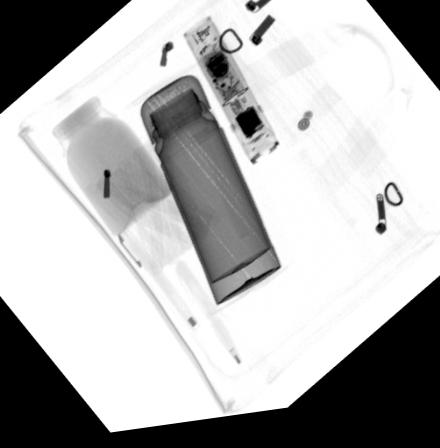Baton: (182, 18, 282, 174)
